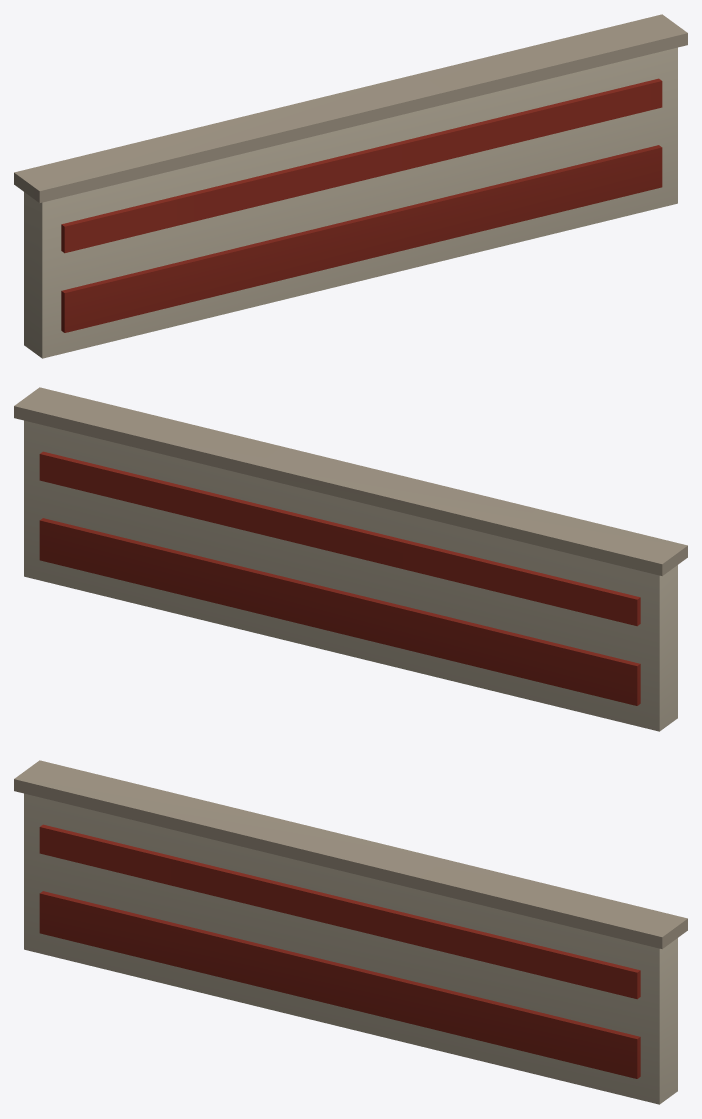
The model's file is wari_mural_lod0.glb.
3 views of the same model, one above another, from view 1: azimuth 30°, elevation 25°; view 2: azimuth 150°, elevation 25°; view 3: azimuth 330°, elevation 25° (orthographic).
Parts seen in each view (by area): view 1: GEO-Arch_wari_mural_LOD0; view 2: GEO-Arch_wari_mural_LOD0; view 3: GEO-Arch_wari_mural_LOD0.
Part boxes in pixels (x1,y1,x2,y2): GEO-Arch_wari_mural_LOD0: (14,14,687,358); GEO-Arch_wari_mural_LOD0: (14,387,687,731); GEO-Arch_wari_mural_LOD0: (14,760,687,1104).
Bounding box in the file's own units: 10.2 × 2.58 × 0.6998.
